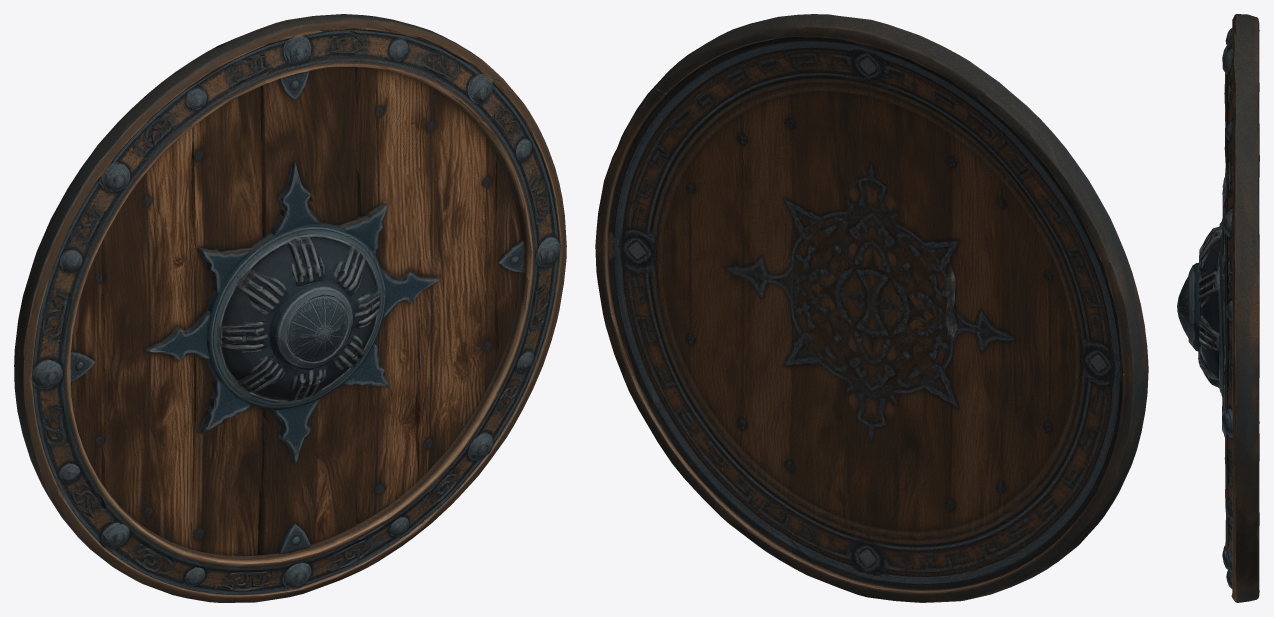
File: Meshy_AI_Weapon_dwarf_shield_01a0e88a_texture.glb
3 renders of one model, left to right at view 1: azimuth 30°, elevation 25°; view 2: azimuth 150°, elevation 25°; view 3: azimuth 270°, elevation 25°, orthographic. The views are drawn at different scales.
Bounding box in the file's own units: 1.9 × 1.9 × 0.2669.
1 material, 1 textured.
